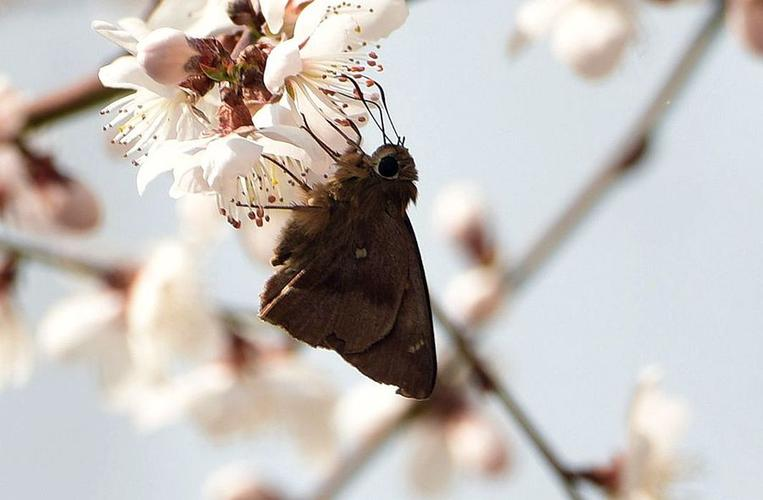Hesperiidae: (223, 84, 444, 401)
